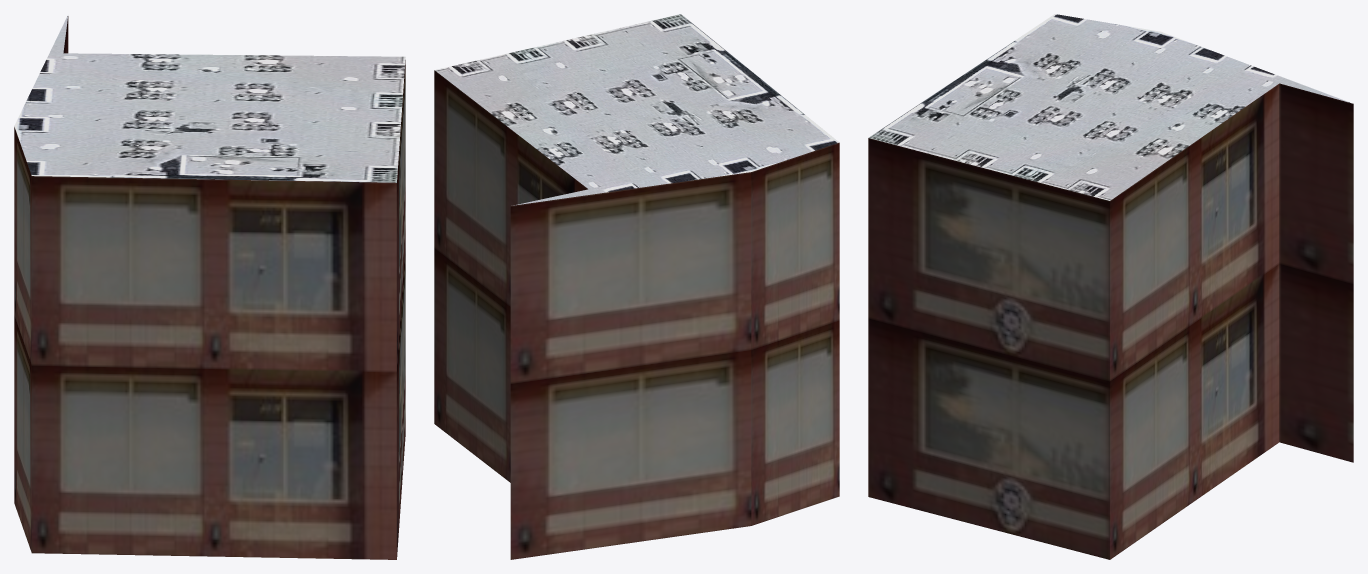
File: ResTex__4493.fbx
3 renders of one model, left to right at view 1: azimuth 30°, elevation 25°; view 2: azimuth 150°, elevation 25°; view 3: azimuth 270°, elevation 25°, orthographic. The views are drawn at different scales.
Parts seen in each view (by area): view 1: CityEngineMaterial_13_m, CityEngineMaterial_m; view 2: CityEngineMaterial_13_m, CityEngineMaterial_m; view 3: CityEngineMaterial_13_m, CityEngineMaterial_m.
Boxes of the visible parts, x1,y1,x2,y2 form: CityEngineMaterial_13_m: (14, 16, 405, 559); CityEngineMaterial_m: (14, 15, 405, 182); CityEngineMaterial_13_m: (434, 70, 839, 559); CityEngineMaterial_m: (435, 14, 838, 205); CityEngineMaterial_13_m: (868, 83, 1353, 559); CityEngineMaterial_m: (868, 14, 1351, 200).
Bounding box in the file's own units: 6.71 × 6 × 7.36.
Materials: 2 (2 with a texture image).
